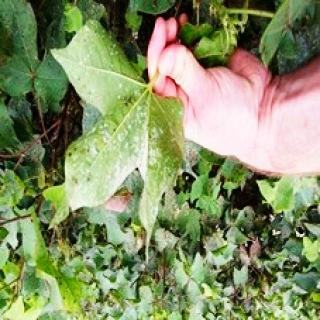grey mildew: (54, 67, 188, 243)
